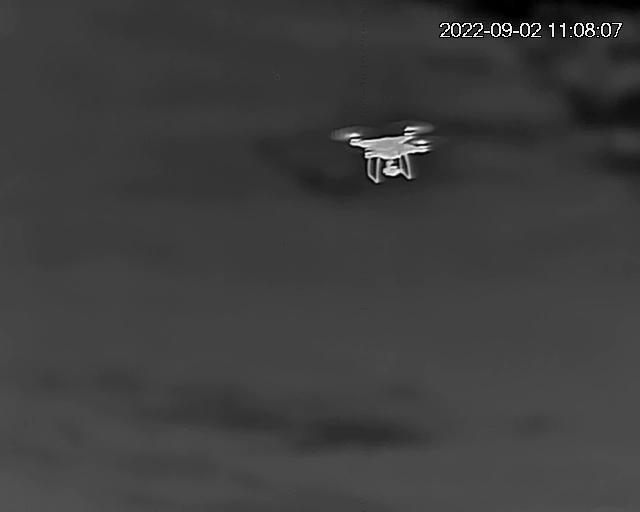DJI-Phantom: (332, 126, 440, 180)
